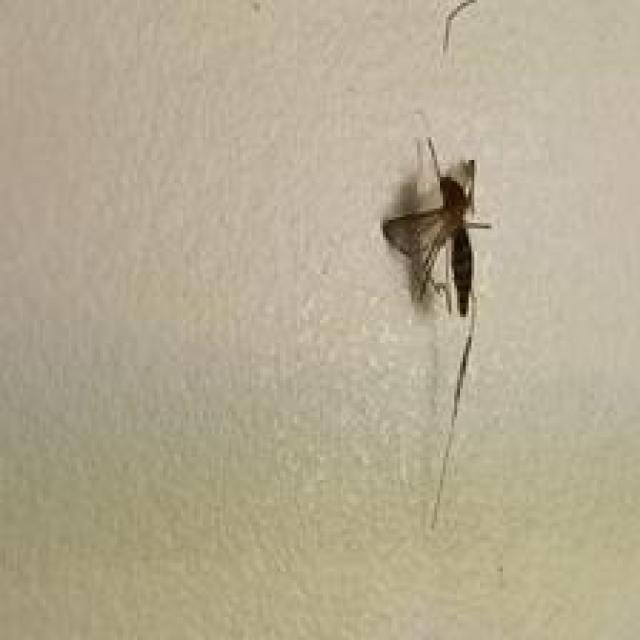Culex: (381, 136, 493, 530)
